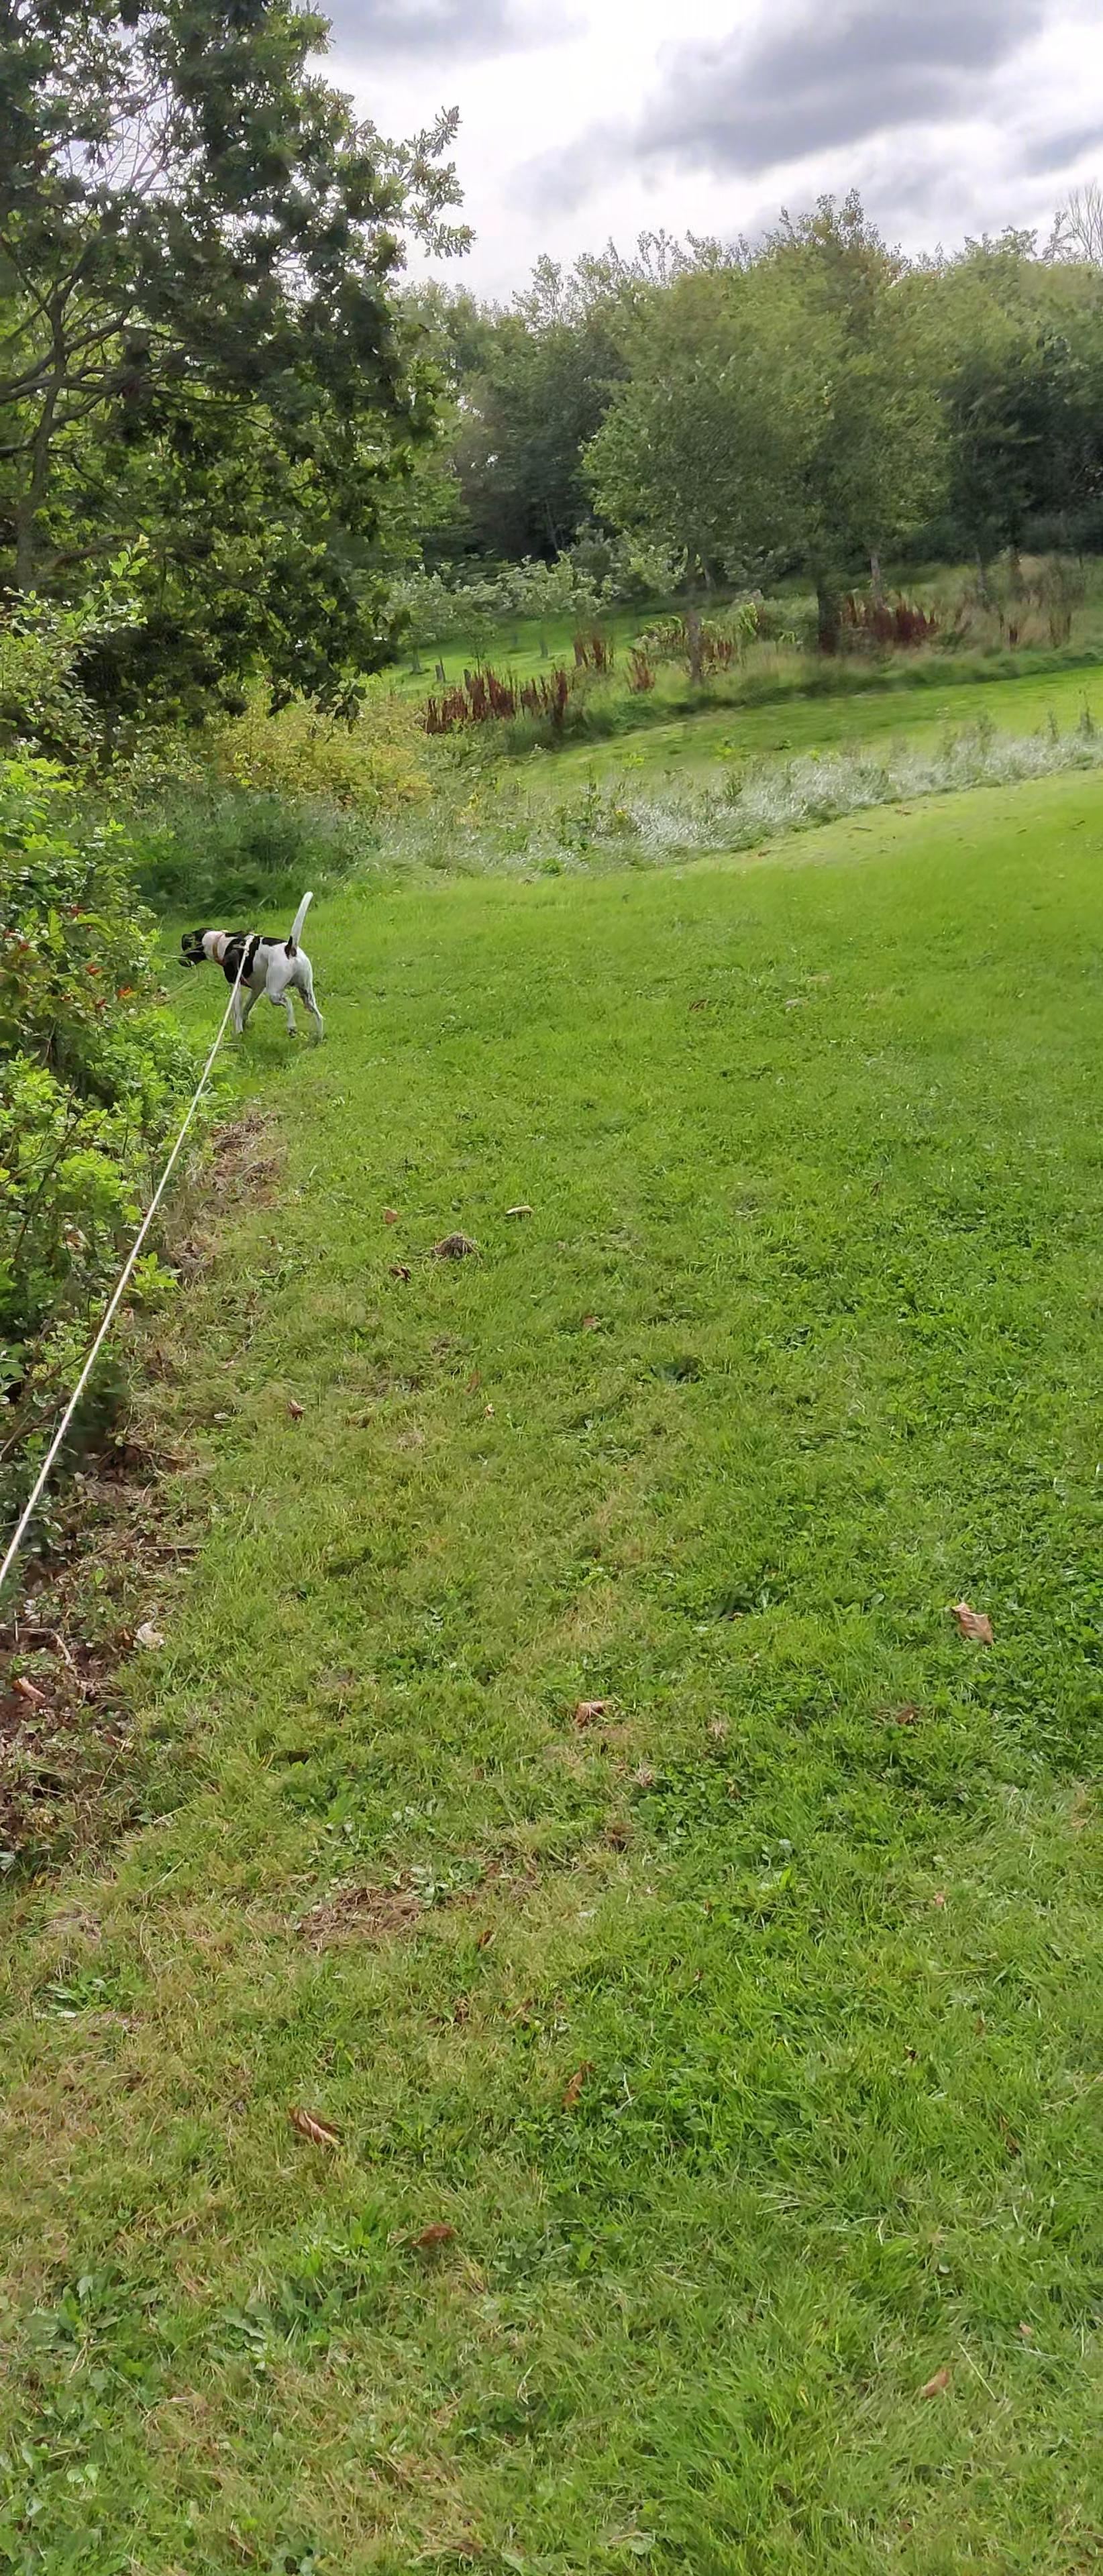Dog: (168, 885, 332, 1045)
